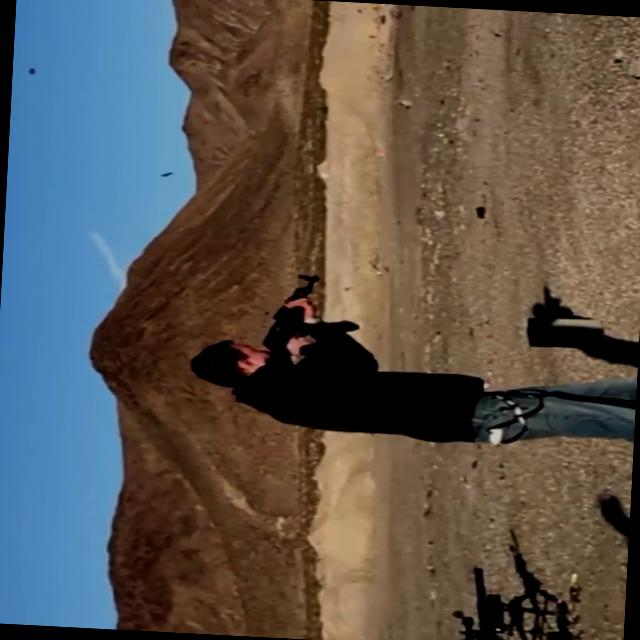long weapon: (238, 269, 368, 383)
